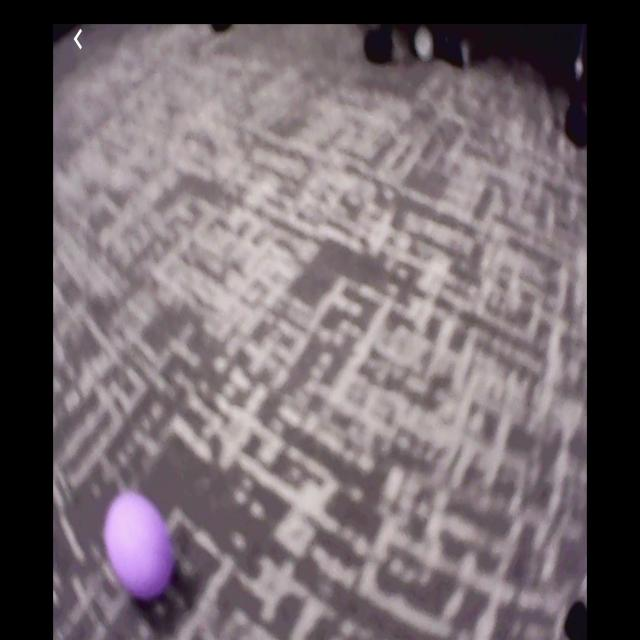ball: (105, 490, 175, 594)
